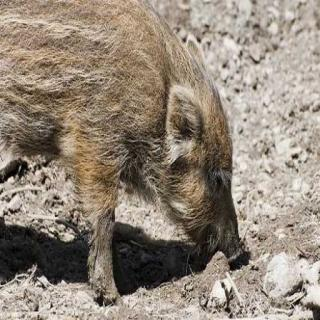Pig: (2, 0, 273, 312)
